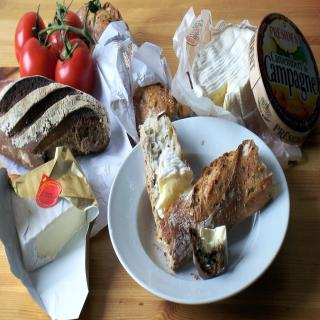tomato: (10, 4, 48, 64), (16, 29, 57, 82), (49, 7, 83, 52)
